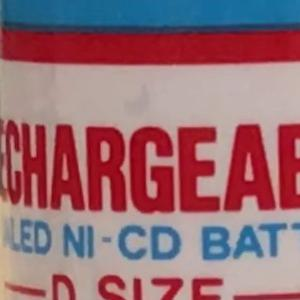keyword: (53, 216, 191, 268)
